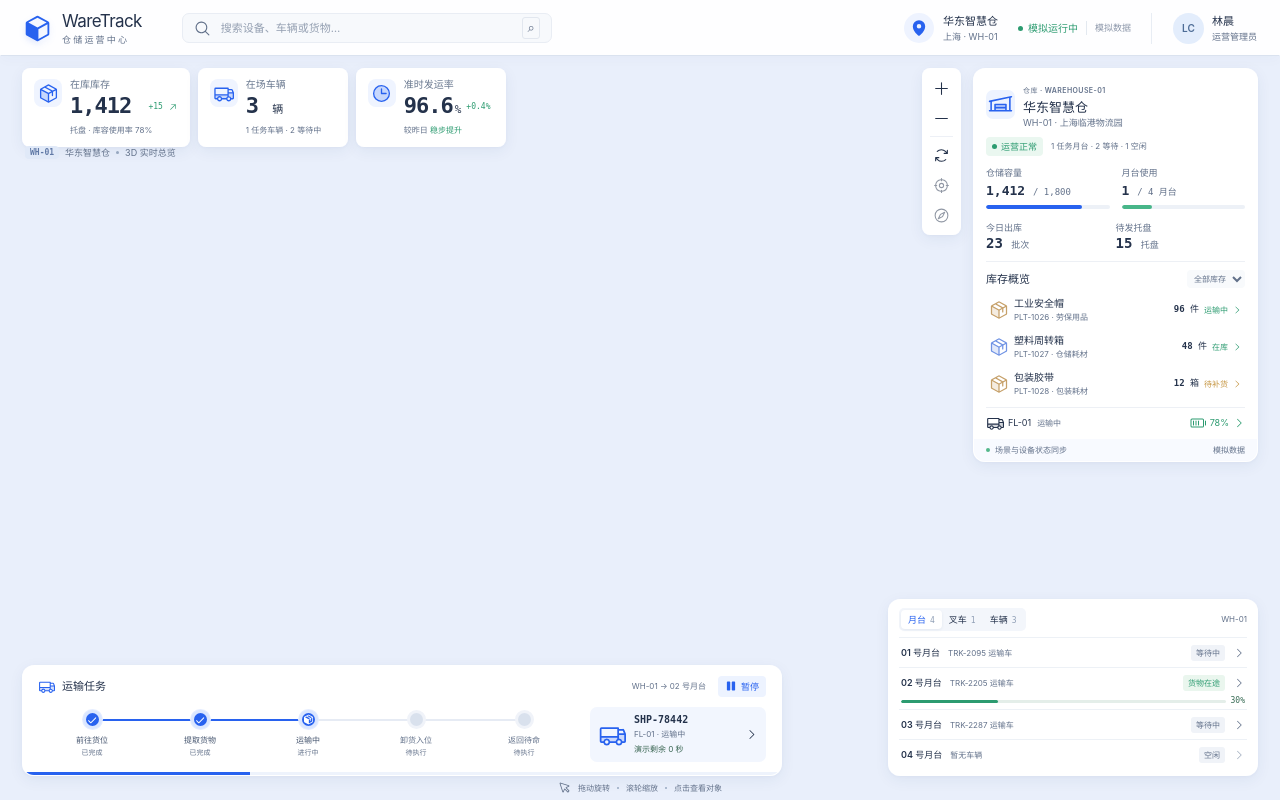
Dashboard › shows a helpful empty search state
Type "does-not-exist" into the dropdown labelled "搜索设备、车辆或货物".
click(367, 28); type("does-not-exist")  # box left=219, top=19, right=514, bottom=37
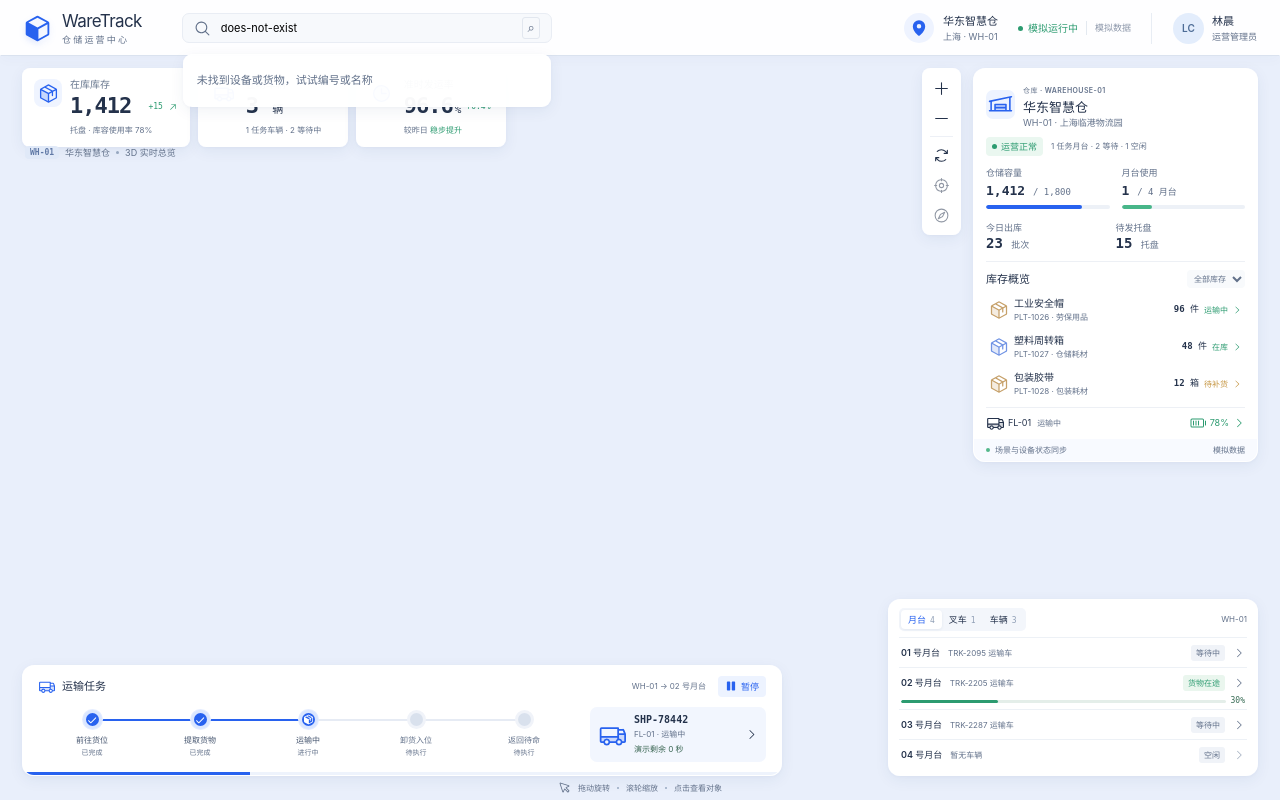
Check: the text "未找到设备或货物，试试编号或名称" is shown, box left=197, top=73, right=373, bottom=87
